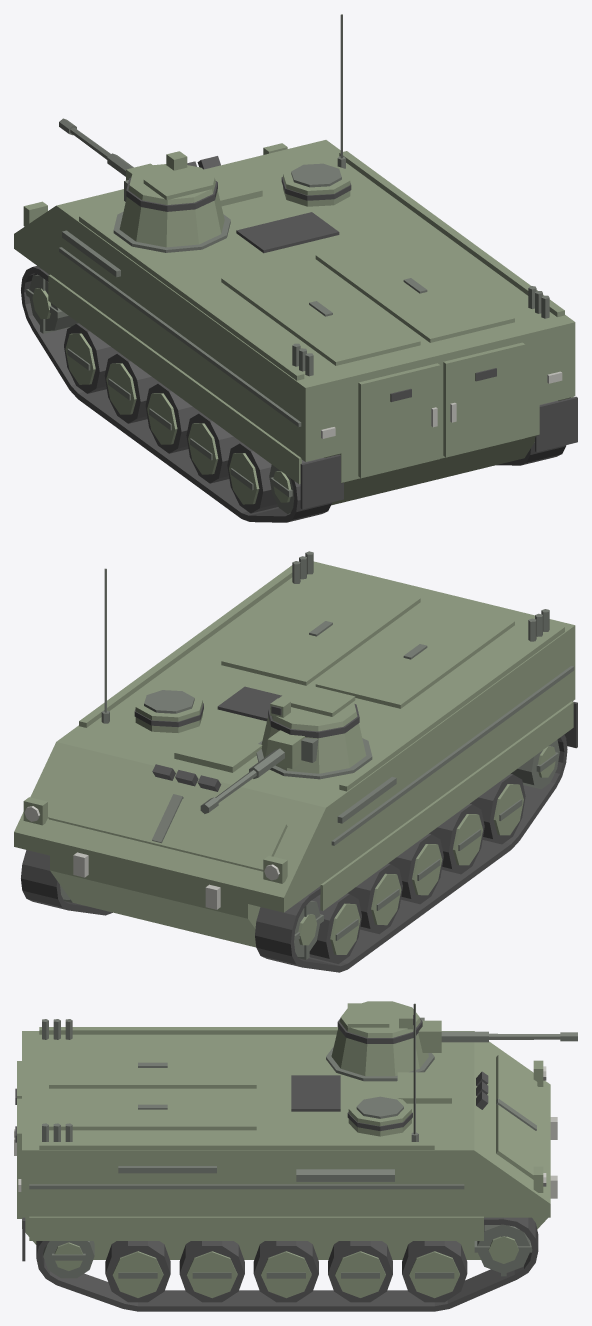
File: pbv.glb
3 renders of one model, top to bottom at view 1: azimuth 30°, elevation 25°; view 2: azimuth 150°, elevation 25°; view 3: azimuth 270°, elevation 25°, orthographic. The views are drawn at different scales.
Parts seen in each view (by area): view 1: hull, turret, wheel_L_4, wheel_L_2, wheel_L_0, wheel_L_1, wheel_L_3, wheel_L_5, gun, wheel_L_6; view 2: hull, turret, wheel_L_0, wheel_L_2, wheel_L_4, wheel_L_1, wheel_L_3, gun, wheel_L_6, wheel_L_5; view 3: hull, turret, wheel_R_3, wheel_R_0, wheel_R_2, wheel_R_4, wheel_R_1, wheel_R_5, gun, wheel_R_6.
Part boxes in pixels (left/top/right/bottom): hull: left=14, top=14, right=577, bottom=522; turret: left=119, top=151, right=224, bottom=247; wheel_L_4: left=227, top=443, right=278, bottom=513; wheel_L_2: left=145, top=383, right=200, bottom=453; wheel_L_0: left=64, top=323, right=118, bottom=393; wheel_L_1: left=104, top=353, right=159, bottom=423; wheel_L_3: left=186, top=413, right=241, bottom=483; wheel_L_5: left=26, top=274, right=78, bottom=333; gun: left=59, top=118, right=152, bottom=201; wheel_L_6: left=269, top=464, right=294, bottom=513; hull: left=14, top=551, right=577, bottom=972; turret: left=261, top=685, right=366, bottom=773; wheel_L_0: left=309, top=893, right=361, bottom=963; wheel_L_2: left=388, top=833, right=443, bottom=904; wheel_L_4: left=470, top=774, right=525, bottom=844; wheel_L_1: left=347, top=863, right=402, bottom=934; wheel_L_3: left=429, top=804, right=484, bottom=874; gun: left=200, top=730, right=318, bottom=813; wheel_L_6: left=511, top=739, right=559, bottom=789; wheel_L_5: left=294, top=900, right=323, bottom=959; hull: left=14, top=1003, right=557, bottom=1311; turret: left=331, top=1001, right=428, bottom=1076; wheel_R_3: left=179, top=1241, right=244, bottom=1302; wheel_R_0: left=402, top=1241, right=467, bottom=1302; wheel_R_2: left=253, top=1241, right=318, bottom=1302; wheel_R_4: left=105, top=1241, right=170, bottom=1302; wheel_R_1: left=328, top=1241, right=392, bottom=1302; wheel_R_5: left=474, top=1224, right=532, bottom=1276; gun: left=418, top=1017, right=577, bottom=1052; wheel_R_6: left=43, top=1241, right=94, bottom=1278.
Size of the model in its own units: 3.05 by 3.35 by 5.7.
